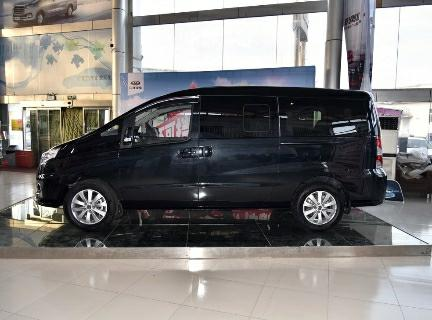car: (20, 84, 396, 238)
